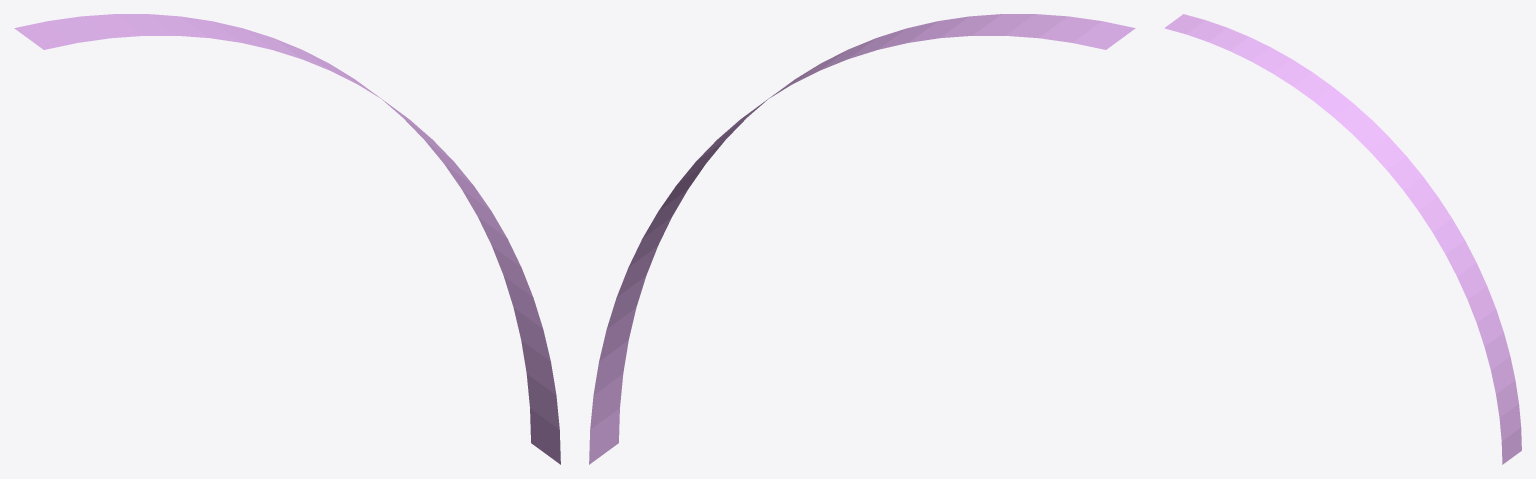
Rendered from quarter_circle_castle.glb.
3 renders of one model, left to right at view 1: azimuth 30°, elevation 25°; view 2: azimuth 150°, elevation 25°; view 3: azimuth 330°, elevation 25°, orthographic. The views are drawn at different scales.
Visible parts, largest first — view 1: quarter_circle_castle; view 2: quarter_circle_castle; view 3: quarter_circle_castle.
Part boxes in pixels (x1=…): quarter_circle_castle: x1=14, y1=14, x2=560, y2=464; quarter_circle_castle: x1=589, y1=14, x2=1135, y2=464; quarter_circle_castle: x1=1164, y1=14, x2=1521, y2=464.
Bounding box in the file's own units: 0.5 × 0.5 × 0.05.
